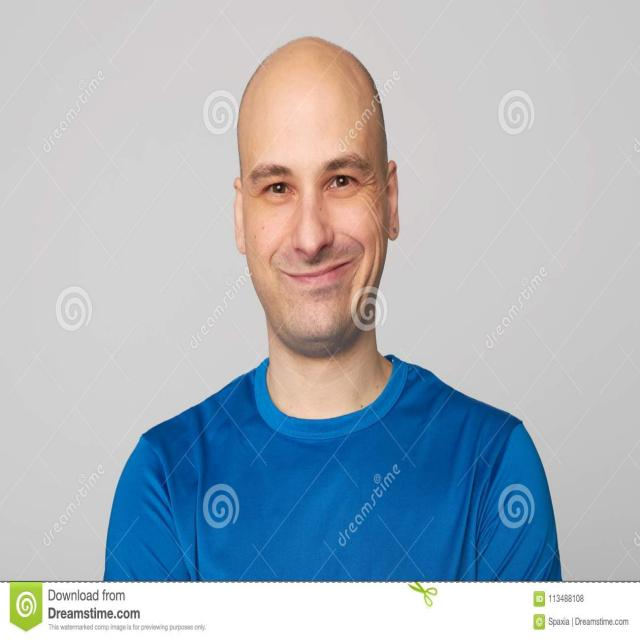bald: (230, 34, 400, 197)
